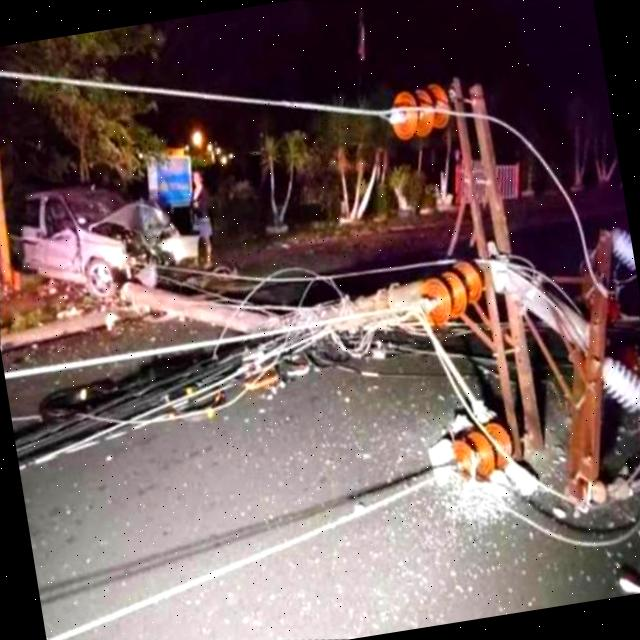Broken Pole: (116, 84, 640, 519)
